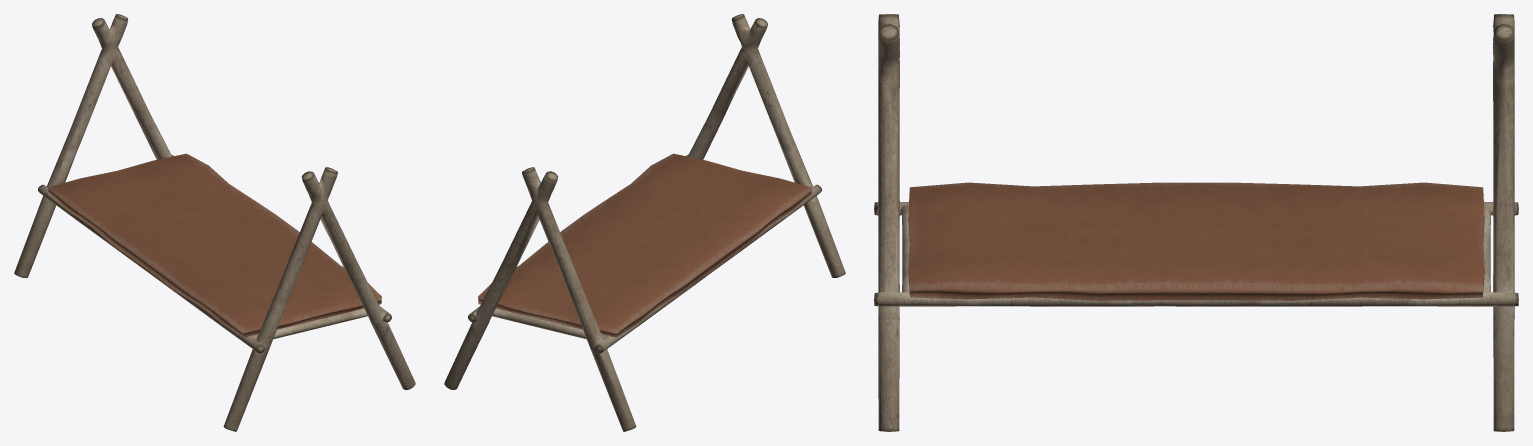
The model's file is cama.fbx.
3 views of the same model, side by side, from view 1: azimuth 30°, elevation 25°; view 2: azimuth 150°, elevation 25°; view 3: azimuth 270°, elevation 25° (orthographic). The views are drawn at different scales.
Visible parts, largest first — view 1: Object_3, Object_2; view 2: Object_3, Object_2; view 3: Object_3, Object_2.
Part boxes in pixels (bbox=[...]): Object_3: bbox=[48, 153, 381, 337]; Object_2: bbox=[14, 14, 415, 431]; Object_3: bbox=[478, 153, 811, 337]; Object_2: bbox=[444, 14, 845, 431]; Object_3: bbox=[908, 182, 1484, 300]; Object_2: bbox=[874, 14, 1518, 431].
Size of the model in its own units: 9012 by 10834 by 18026.
Materials: 2 (2 with a texture image).
